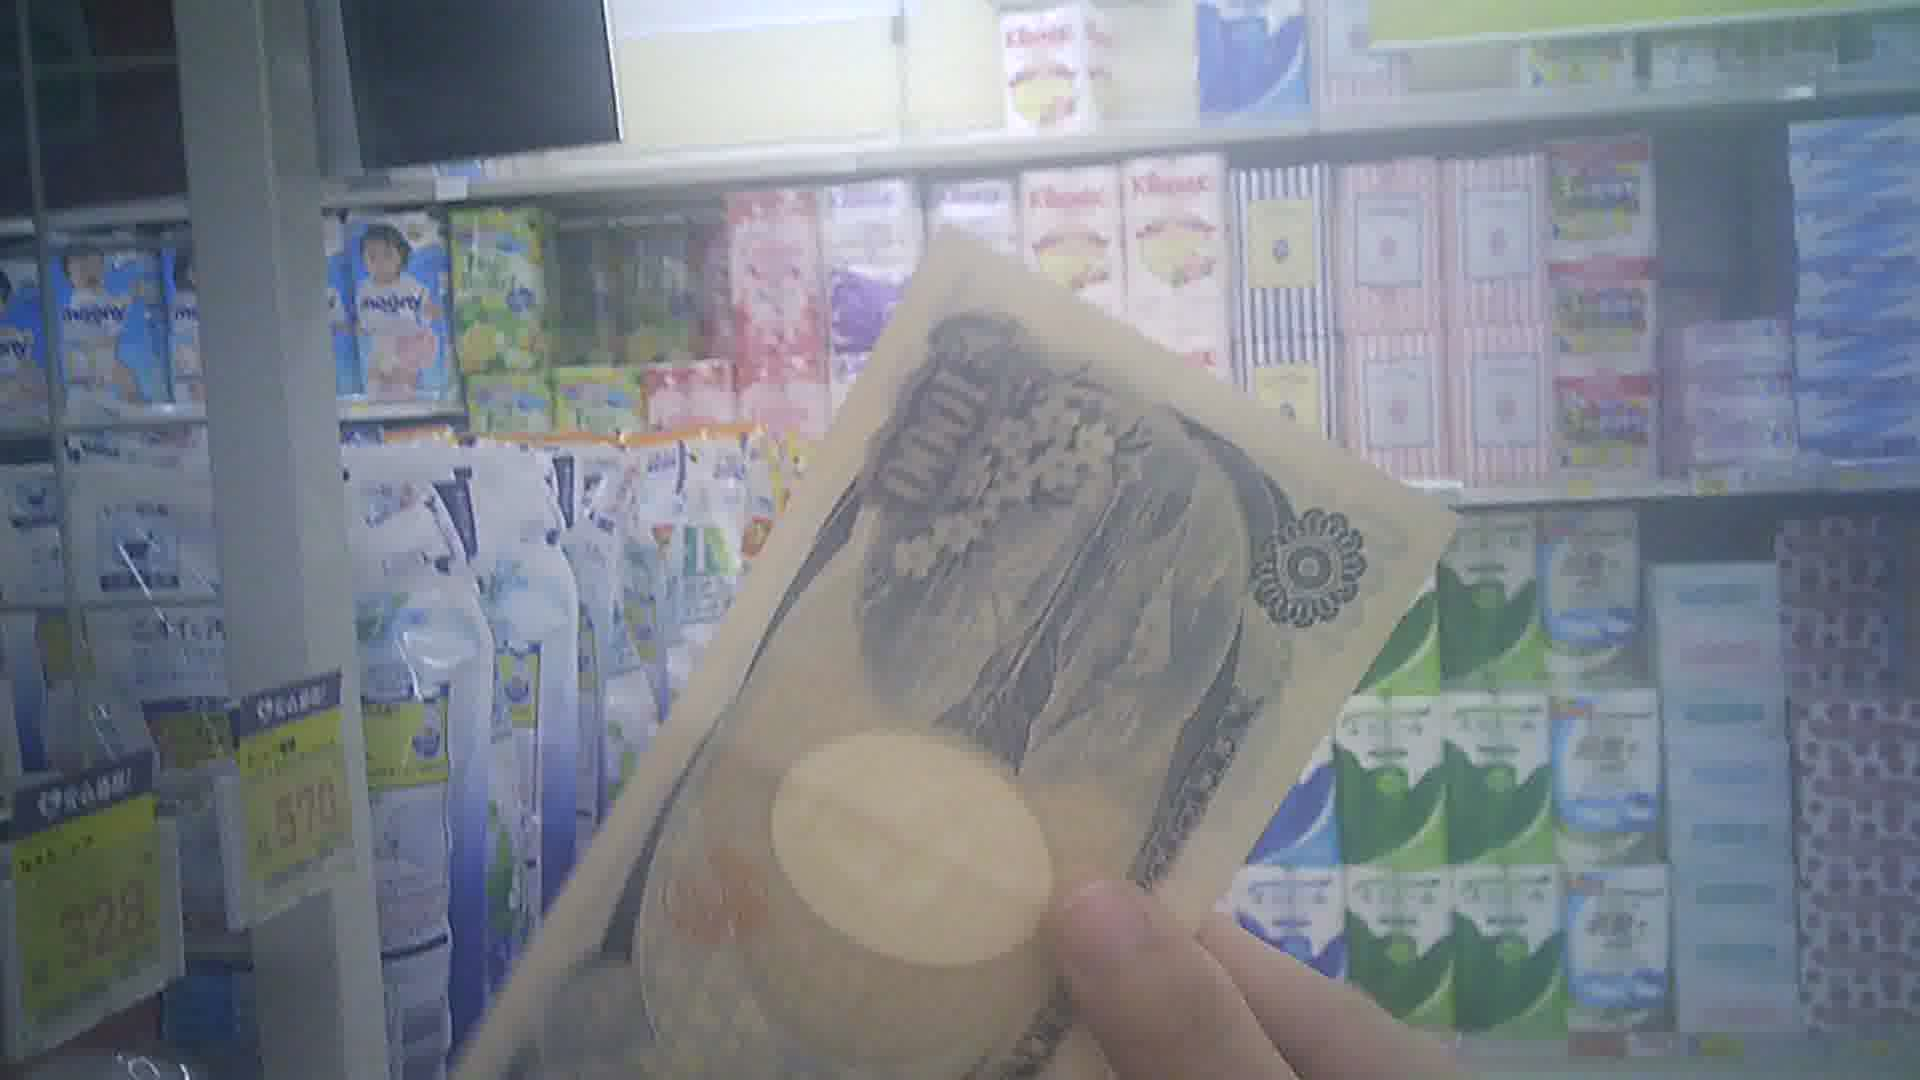1,000 Yen: (487, 214, 1396, 1079)
